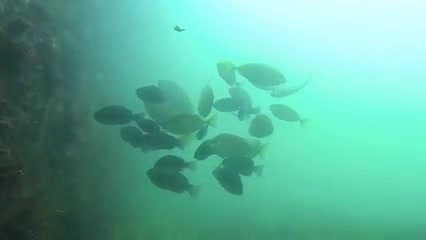smallfish: (227, 54, 292, 88)
smallfishw: (264, 98, 315, 129)
